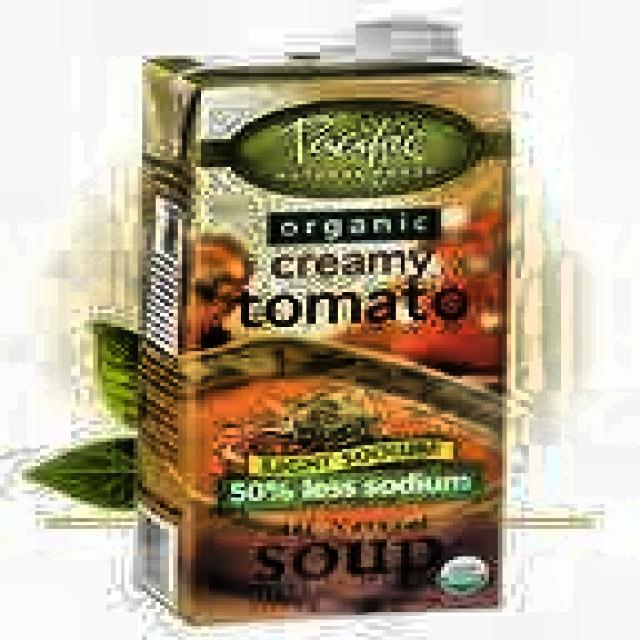cardboard: (128, 45, 516, 623)
